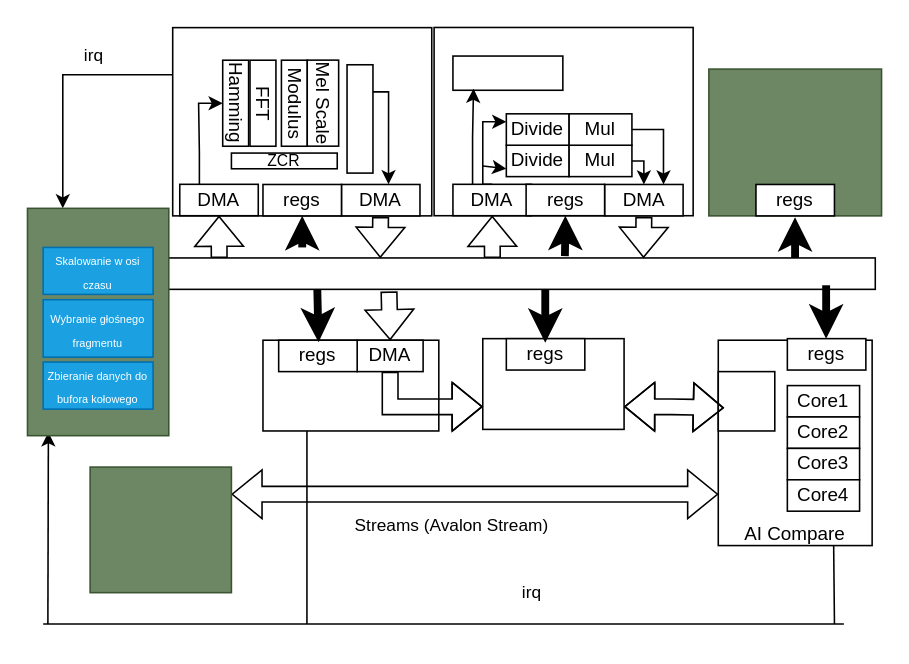
This 909x664 diagram has some shape labels left out. The box of each missing label's shape, as (x1, y1, x2, y2) in pixels:
AI DMA: (261, 339, 439, 431)
AI RAM: (481, 337, 624, 429)
IDMA: (717, 370, 775, 431)
Komponent ładujący dane z modelu: (89, 466, 231, 593)
Max: (451, 54, 563, 90)
Nios IIe: (26, 207, 169, 436)
Normalizer: (433, 26, 693, 216)
Package: (346, 63, 373, 173)
Signal Processor: (171, 26, 432, 216)
Źródło danych wejściowych: (707, 68, 882, 216)
